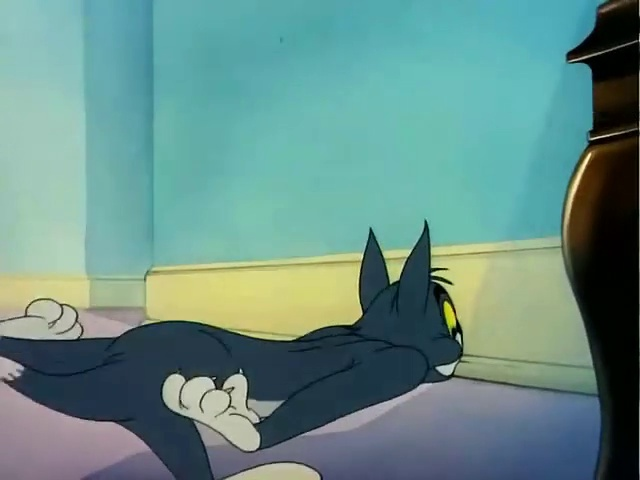tom: (3, 197, 485, 458)
